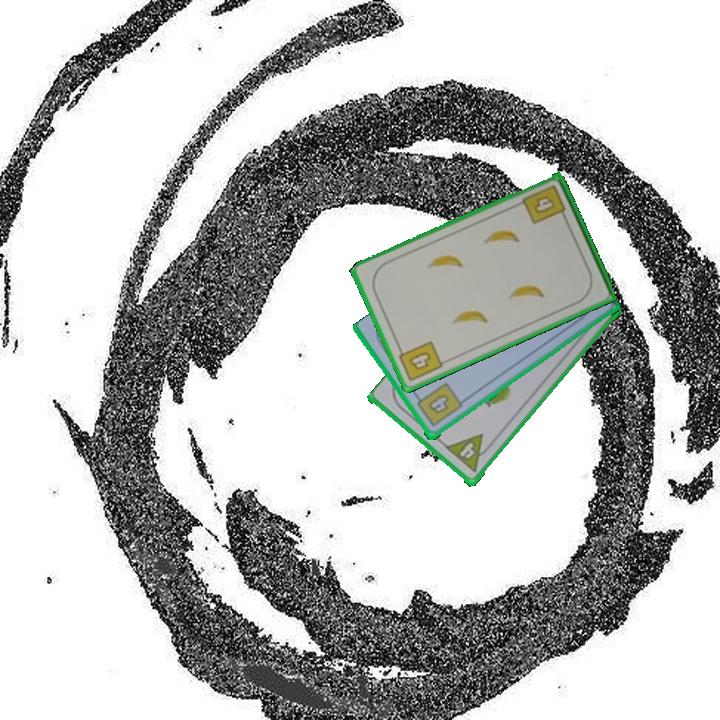4b: (412, 379, 465, 430), (394, 337, 446, 385), (519, 181, 569, 227)
4p: (443, 431, 495, 476)
